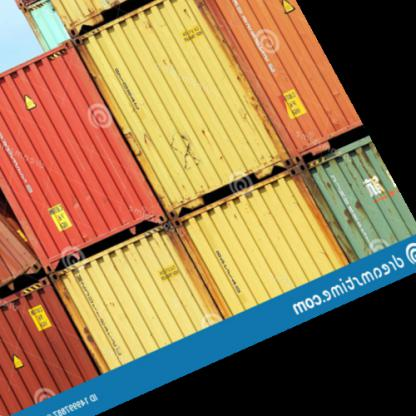Damage: (316, 151, 371, 245), (161, 121, 196, 172)
